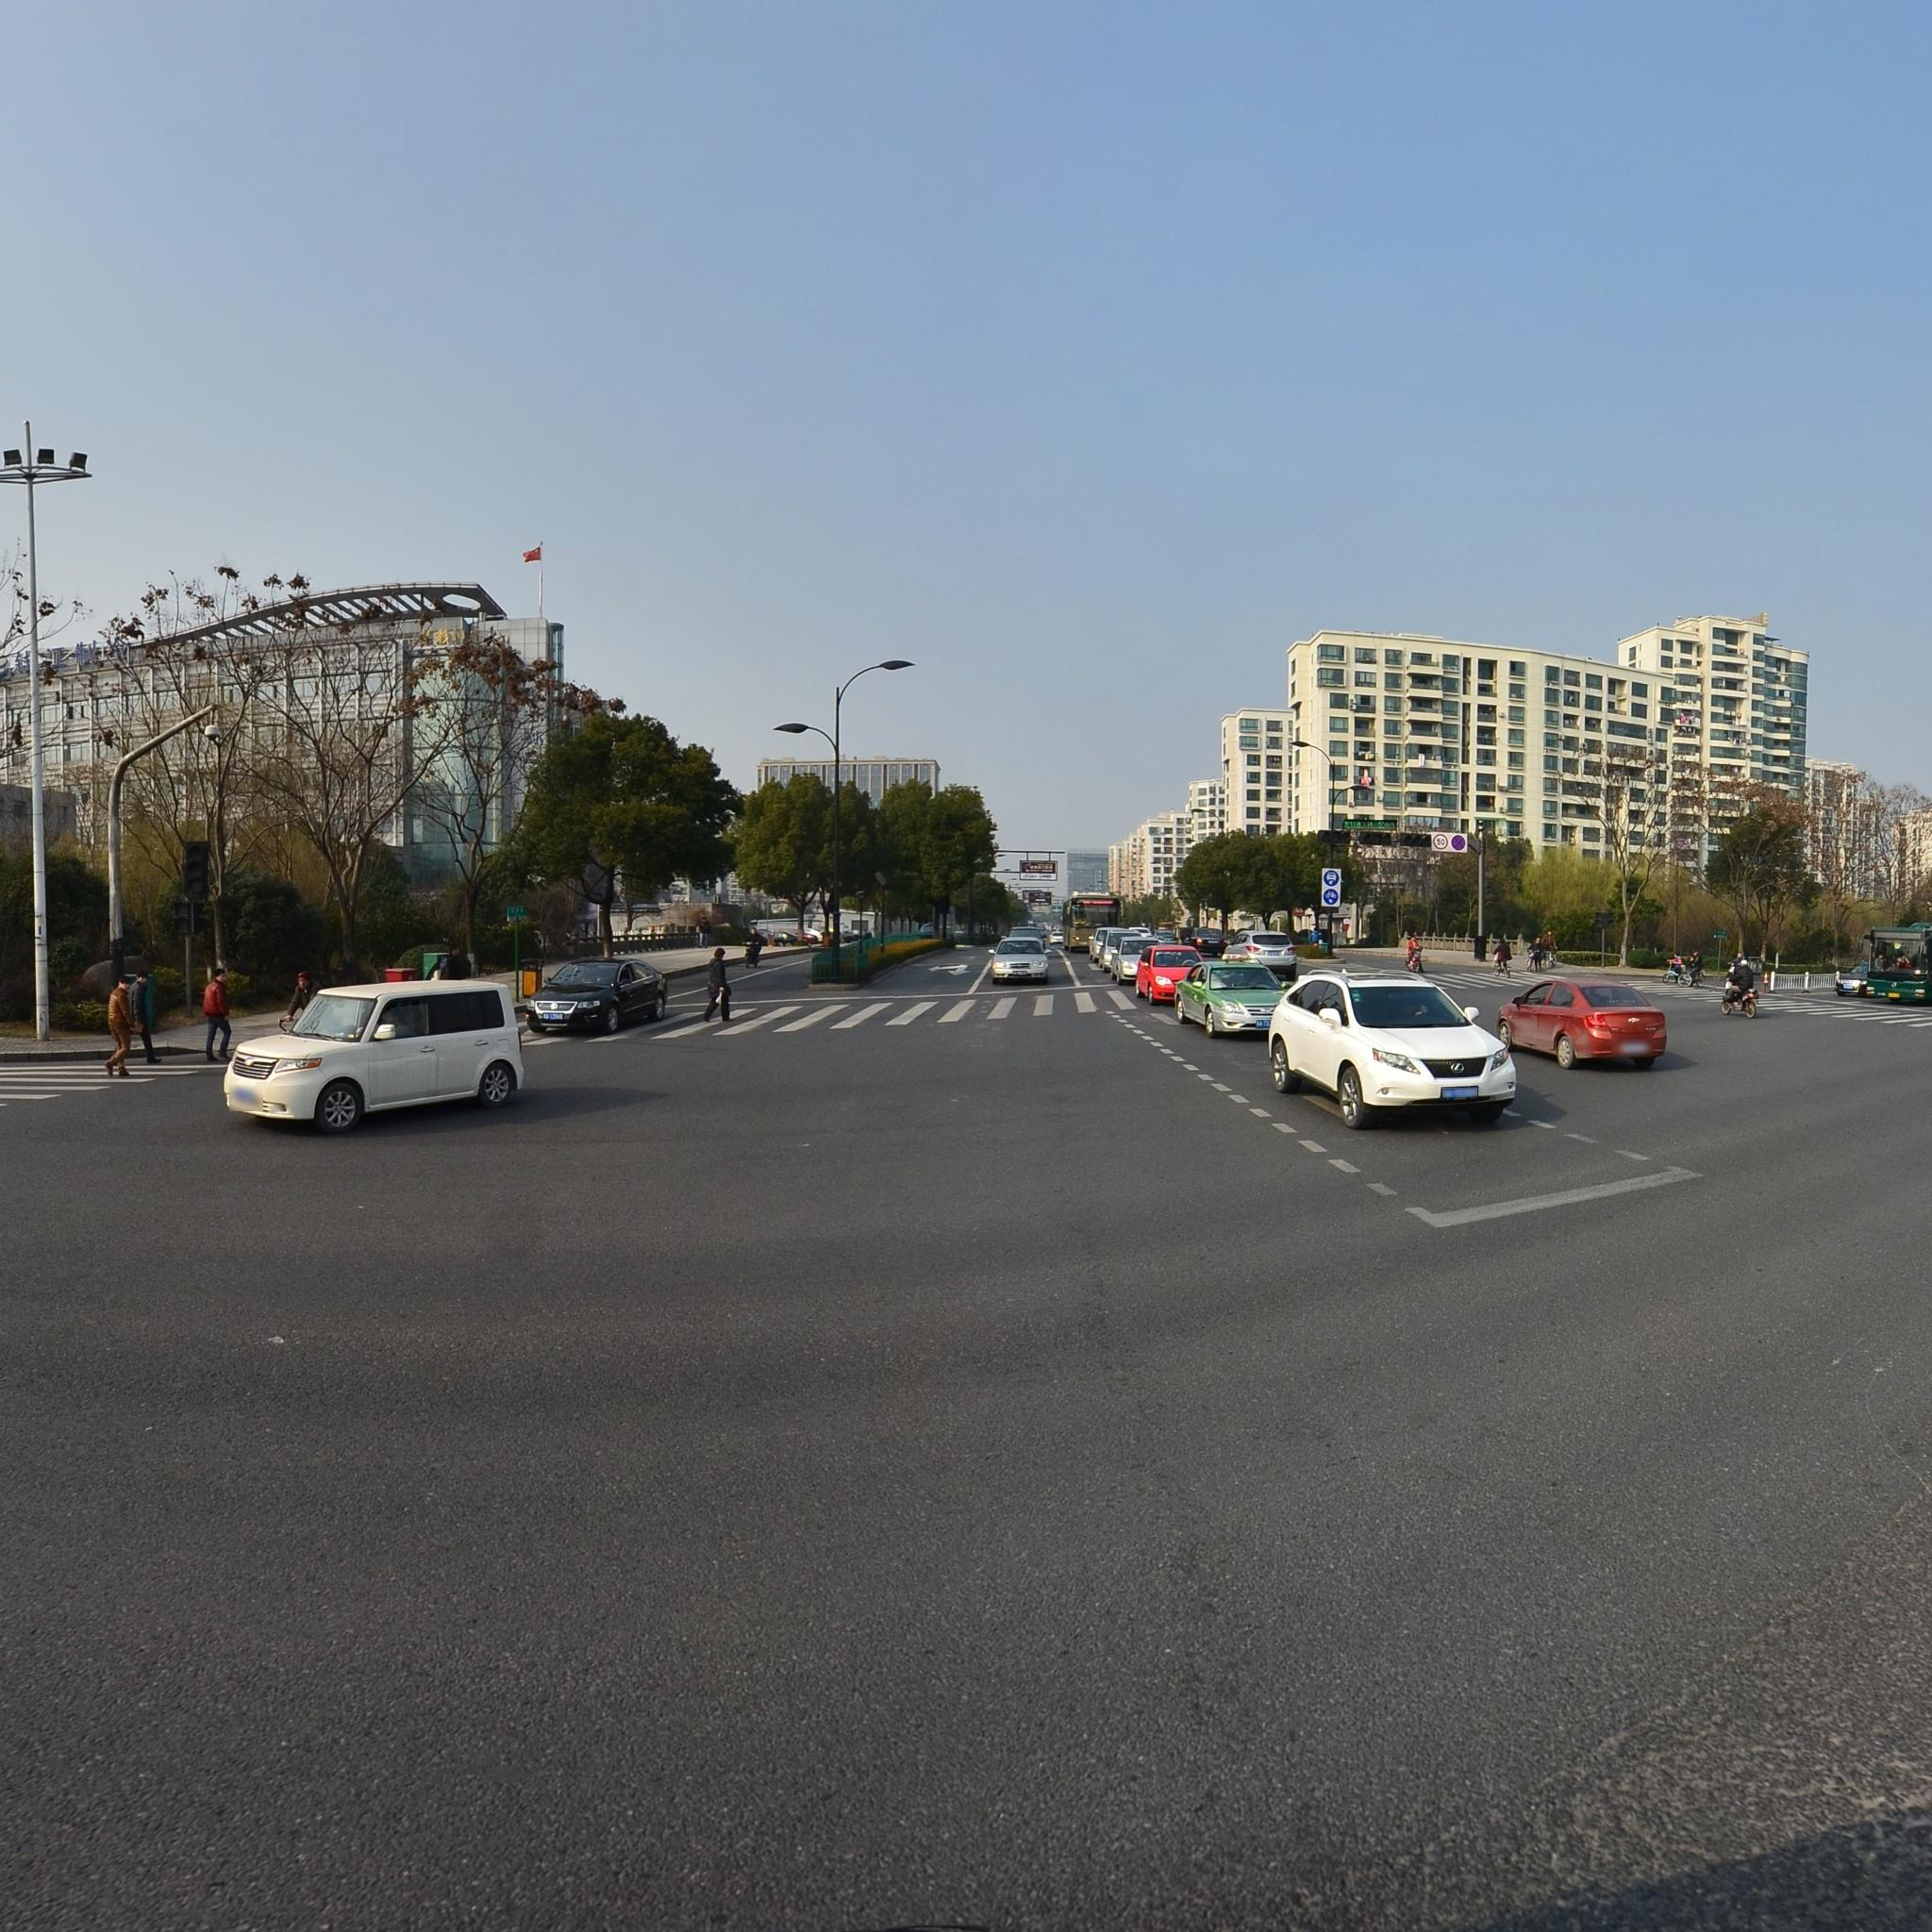pl50: (1435, 833, 1449, 849)
pn: (1451, 835, 1467, 849)
